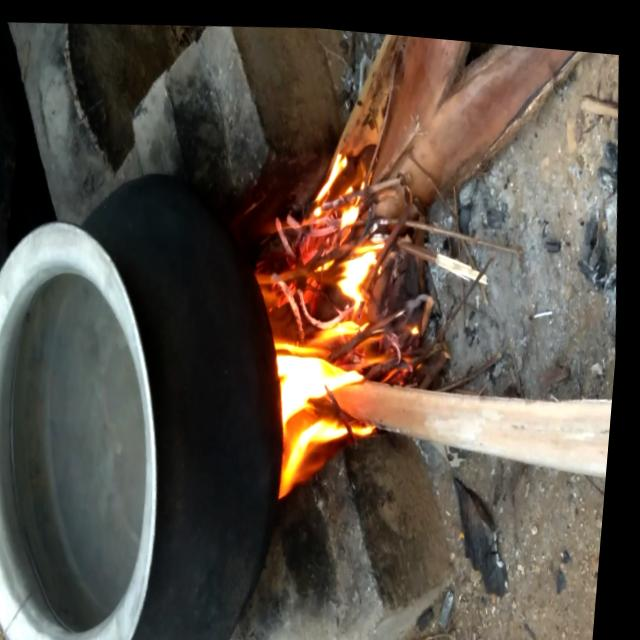helmet: (253, 137, 414, 503)
